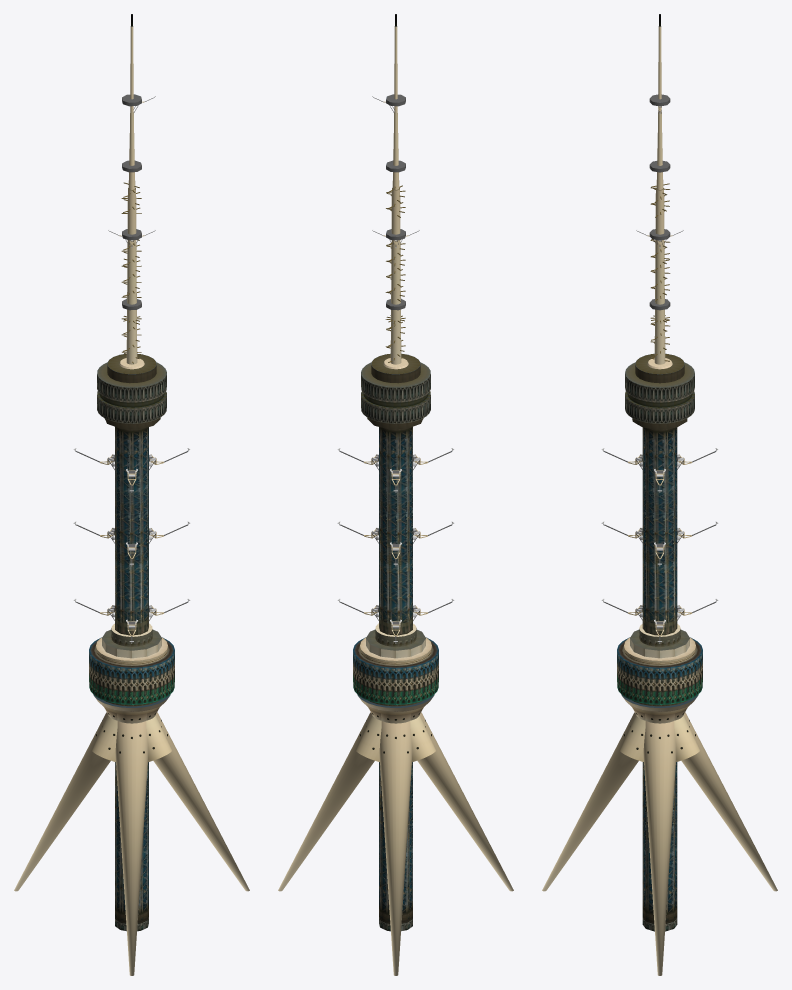
Rendered from tvtower.fbx.
The picture shows the model from 3 angles, left to right: view 1: azimuth 30°, elevation 25°; view 2: azimuth 150°, elevation 25°; view 3: azimuth 270°, elevation 25°; orthographic projection.
Visible parts, largest first — view 1: tvtower; view 2: tvtower; view 3: tvtower.
Part boxes in pixels (bbox=[...]): tvtower: bbox=[14, 14, 249, 975]; tvtower: bbox=[278, 14, 513, 975]; tvtower: bbox=[542, 14, 777, 975].
Bounding box in the file's own units: 22120 × 108436 × 25465.
Materials: 1 (1 with a texture image).
